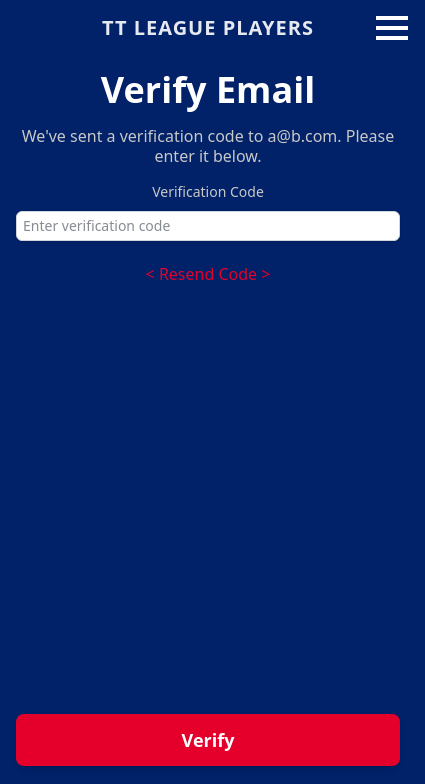
Test: Register page › resends the verification code and says so
Click the button with test id "register-resend-code-button" at (208, 274), box [146,262,270,286]
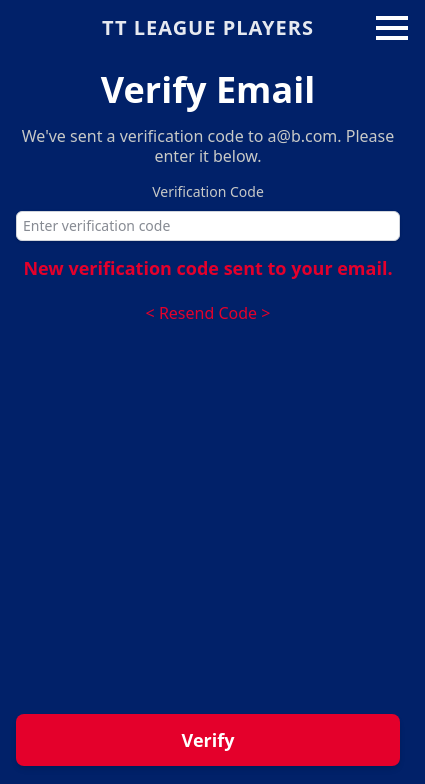
expect the text with test id "register-verify-error-message" reads "New verification code sent to your email.": met, box [24,256,393,280]
